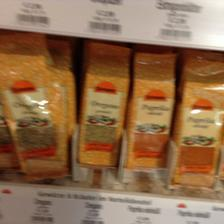Gewuerze: (0, 31, 68, 178), (78, 41, 130, 168), (174, 57, 222, 186), (128, 51, 176, 171)
